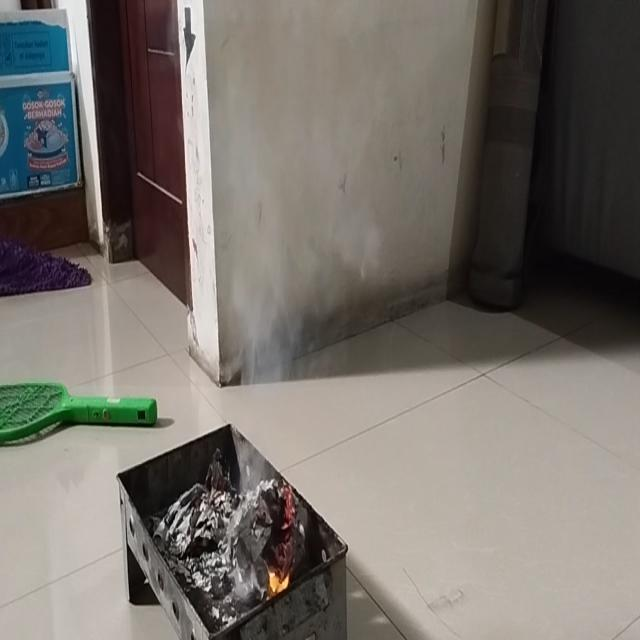fire: (209, 39, 390, 383), (234, 427, 272, 493)
